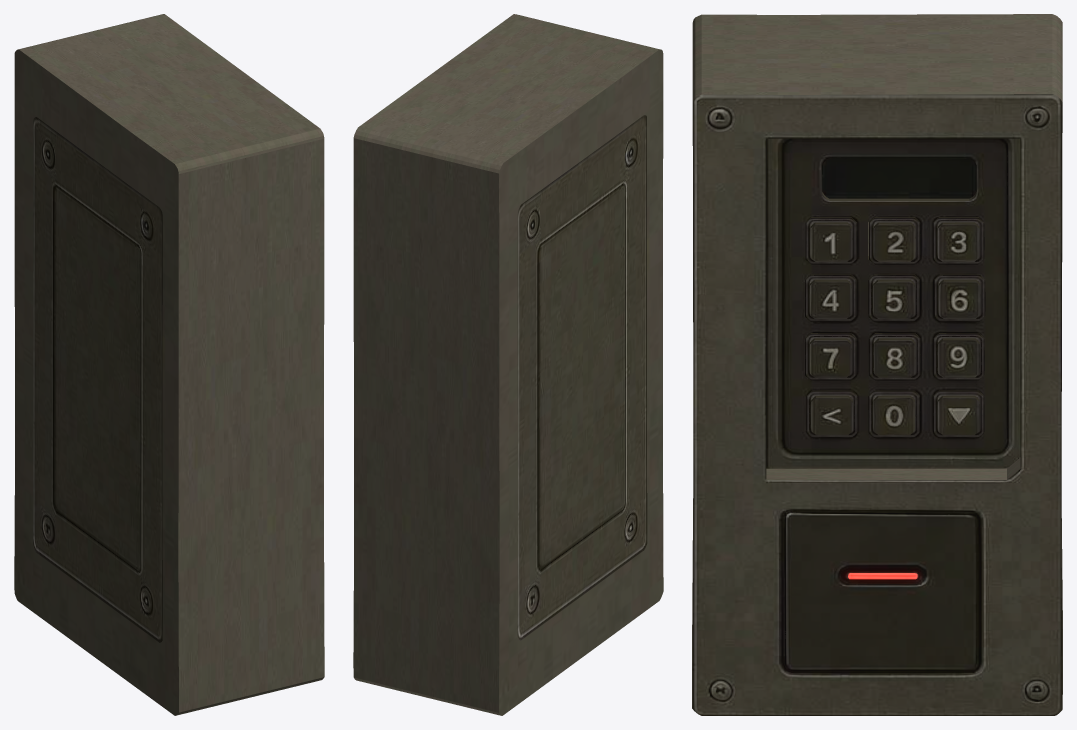
File: simple_keypad.glb
3 views of the same model, side by side, from view 1: azimuth 30°, elevation 25°; view 2: azimuth 150°, elevation 25°; view 3: azimuth 270°, elevation 25° (orthographic). The views are drawn at different scales.
Visible parts, largest first — view 1: AssetMesh_012; view 2: AssetMesh_012; view 3: AssetMesh_012, AssetMesh_002, AssetMesh_001, AssetMesh_003, AssetMesh_006, AssetMesh_011, AssetMesh_008, AssetMesh_009, AssetMesh_010, AssetMesh_014, AssetMesh_007, AssetMesh_004 (+1 smaller).
Boxes of the visible parts, x1,y1,x2,y2 form: AssetMesh_012: [14, 14, 324, 715]; AssetMesh_012: [353, 14, 663, 715]; AssetMesh_012: [692, 14, 1062, 715]; AssetMesh_002: [805, 217, 857, 264]; AssetMesh_001: [868, 390, 920, 437]; AssetMesh_003: [869, 217, 920, 264]; AssetMesh_006: [868, 274, 919, 321]; AssetMesh_011: [806, 390, 857, 437]; AssetMesh_008: [805, 333, 856, 380]; AssetMesh_009: [869, 333, 920, 380]; AssetMesh_010: [933, 333, 984, 380]; AssetMesh_014: [933, 390, 984, 437]; AssetMesh_007: [934, 274, 985, 321]; AssetMesh_004: [933, 217, 984, 264].
Bounding box in the file's own units: 2 × 7.25 × 3.92.
2 materials, 2 textured.
